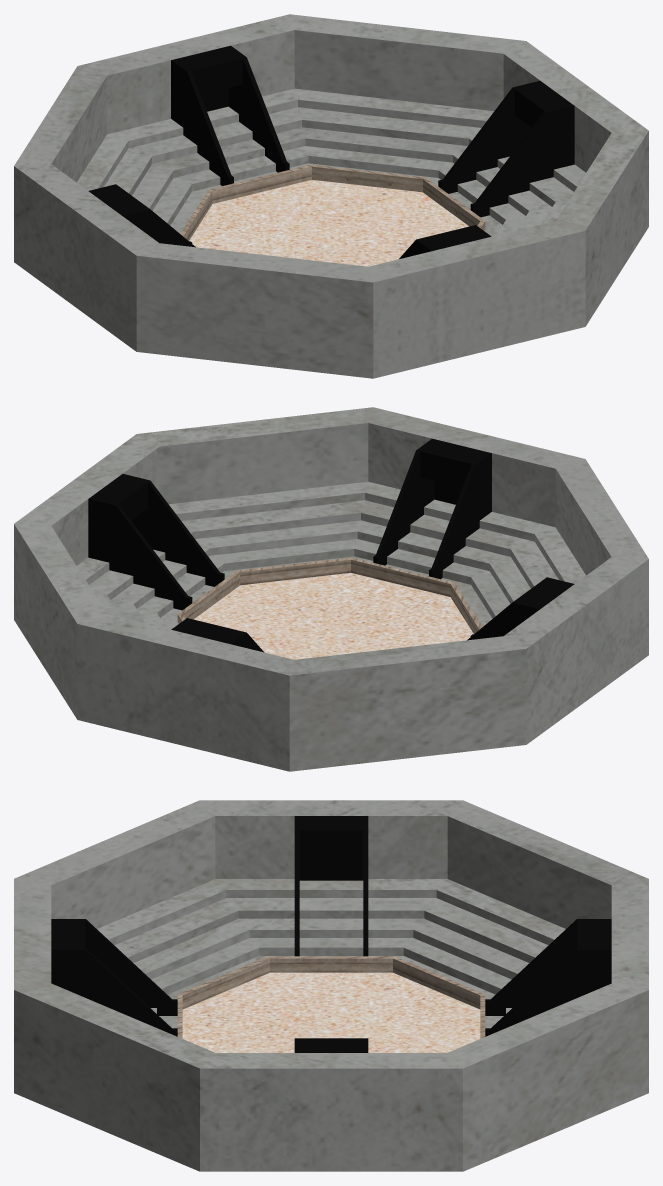
The model's file is backstage.baki.fbx.
3 renders of one model, top to bottom at view 1: azimuth 30°, elevation 25°; view 2: azimuth 150°, elevation 25°; view 3: azimuth 270°, elevation 25°, orthographic. The views are drawn at different scales.
Parts seen in each view (by area): view 1: backstage_baki_0001:backstage_baki_0001:pCube12; view 2: backstage_baki_0001:backstage_baki_0001:pCube12; view 3: backstage_baki_0001:backstage_baki_0001:pCube12.
Boxes of the visible parts, box(x1,y1,x2,y2) form: backstage_baki_0001:backstage_baki_0001:pCube12: box(14, 14, 648, 378); backstage_baki_0001:backstage_baki_0001:pCube12: box(14, 407, 648, 771); backstage_baki_0001:backstage_baki_0001:pCube12: box(14, 800, 648, 1171).
Bounding box in the file's own units: 5717 × 1026 × 5717.
